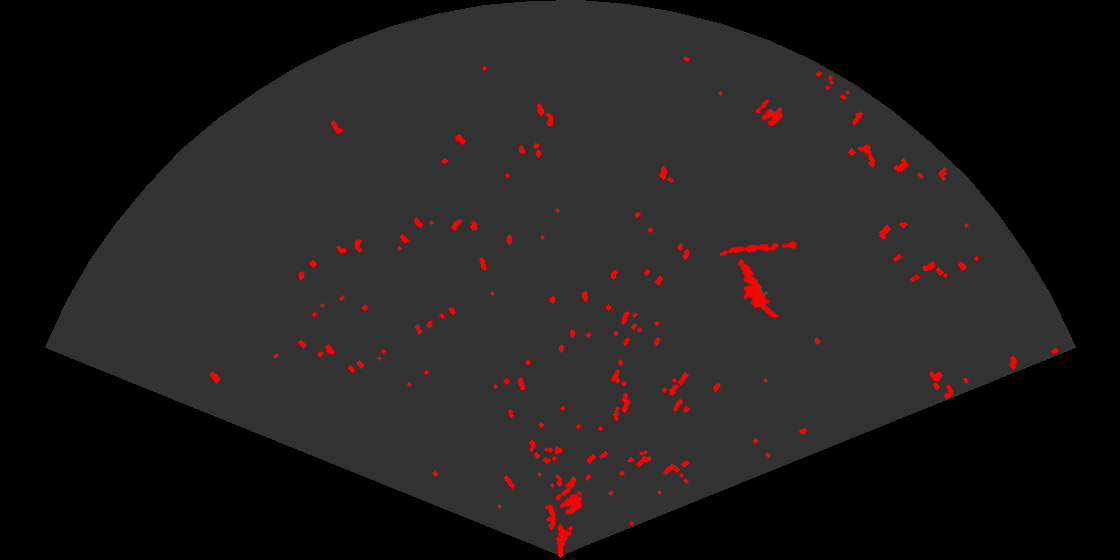ball: (554, 486, 584, 517), (754, 98, 784, 128)
chain: (717, 239, 797, 258)
frogman: (736, 257, 781, 317)
